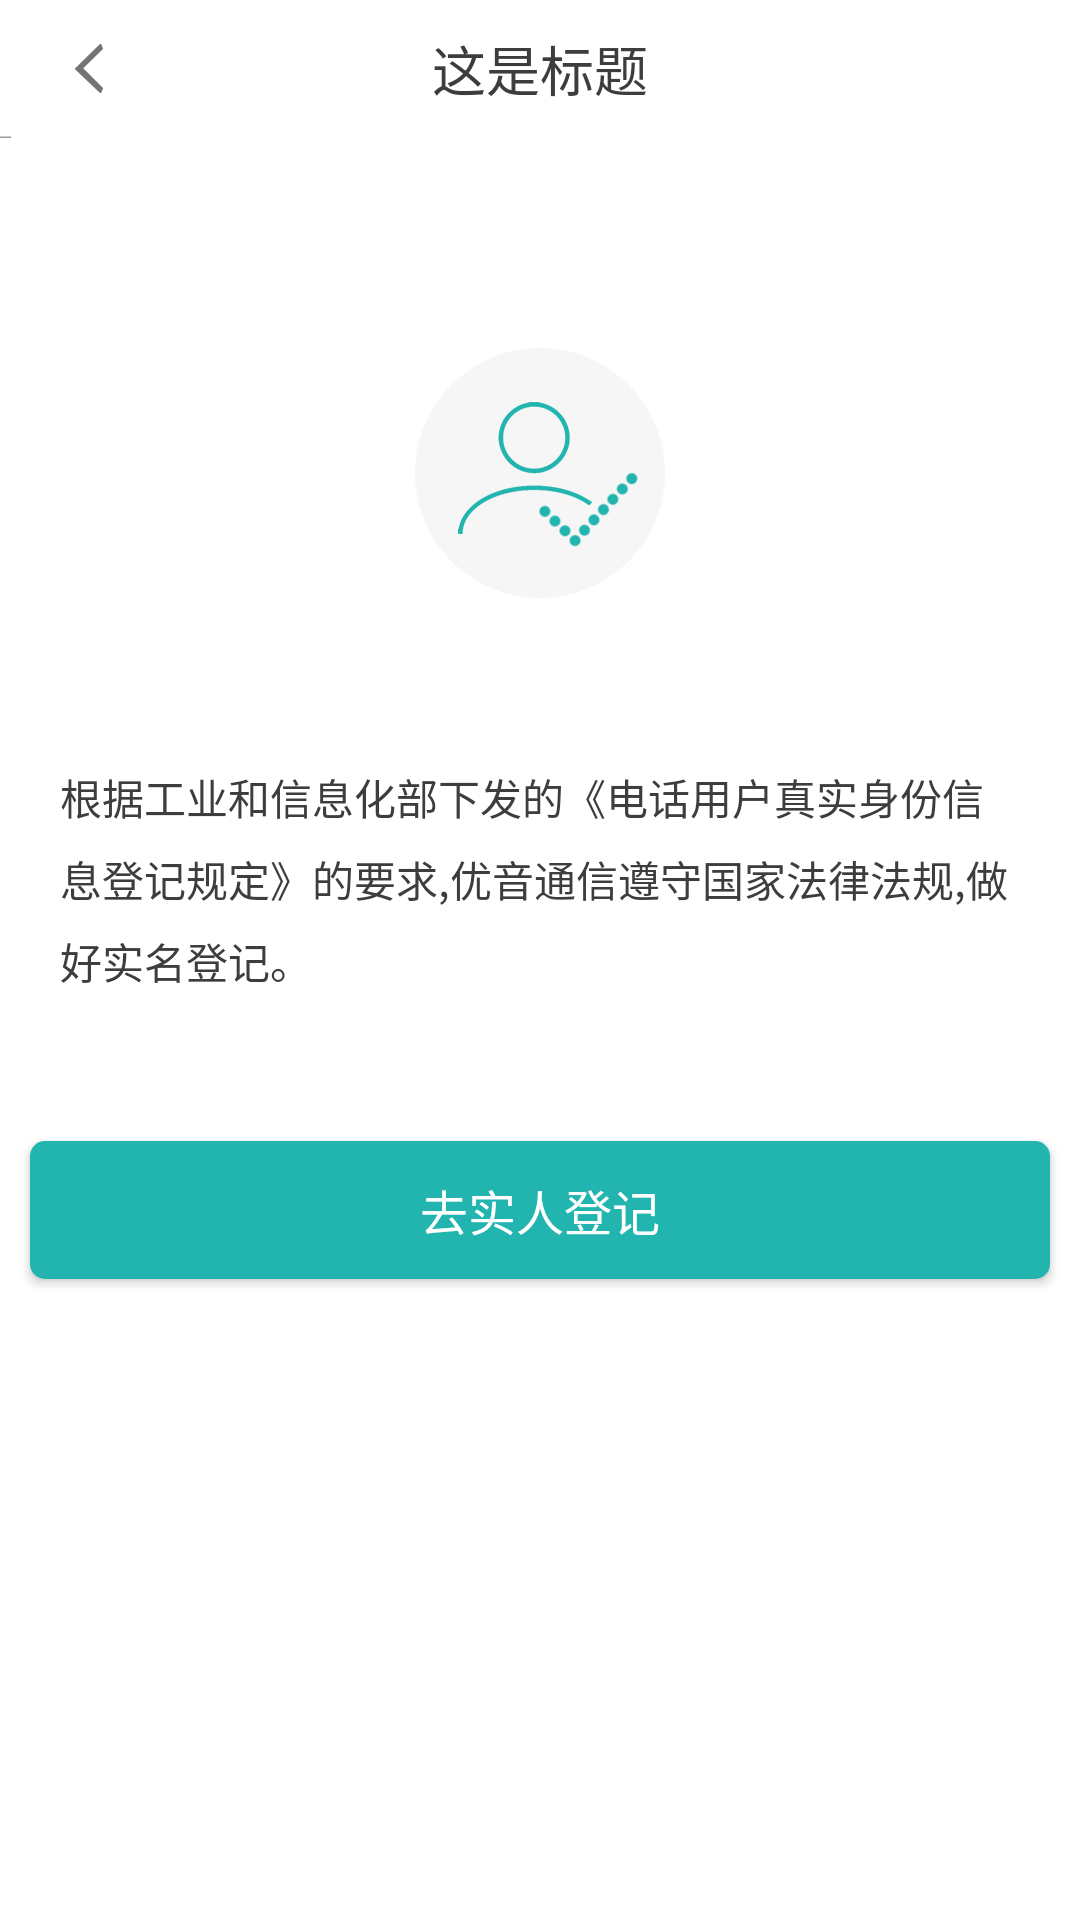

Screen size 1080 × 1920. Icon name, then its center in pixels as (x,y):
arrows back: (89,68)
authentication: (540,473)
